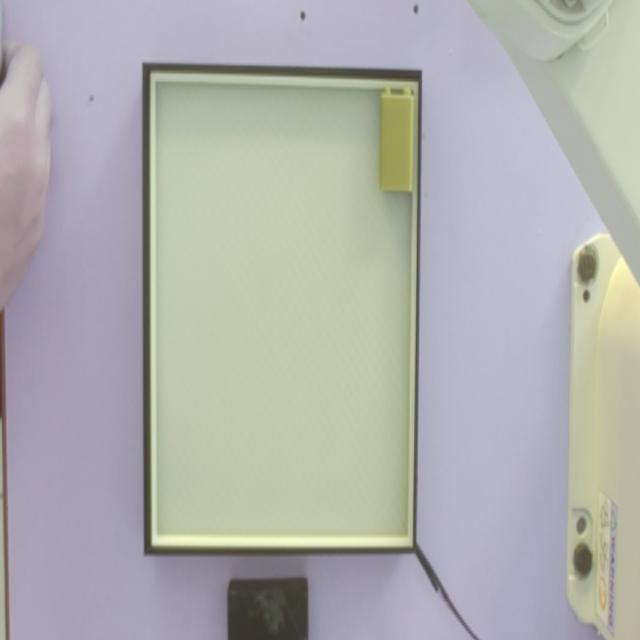bateria: (379, 87, 414, 191)
mesa: (142, 65, 422, 555)
